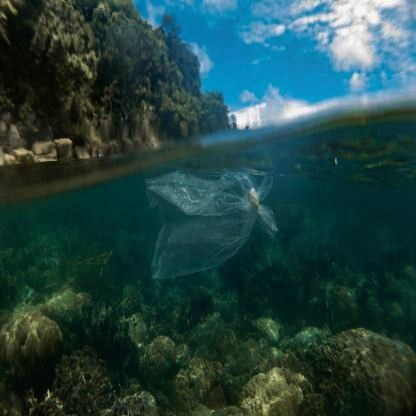pbag: (140, 160, 290, 284)
